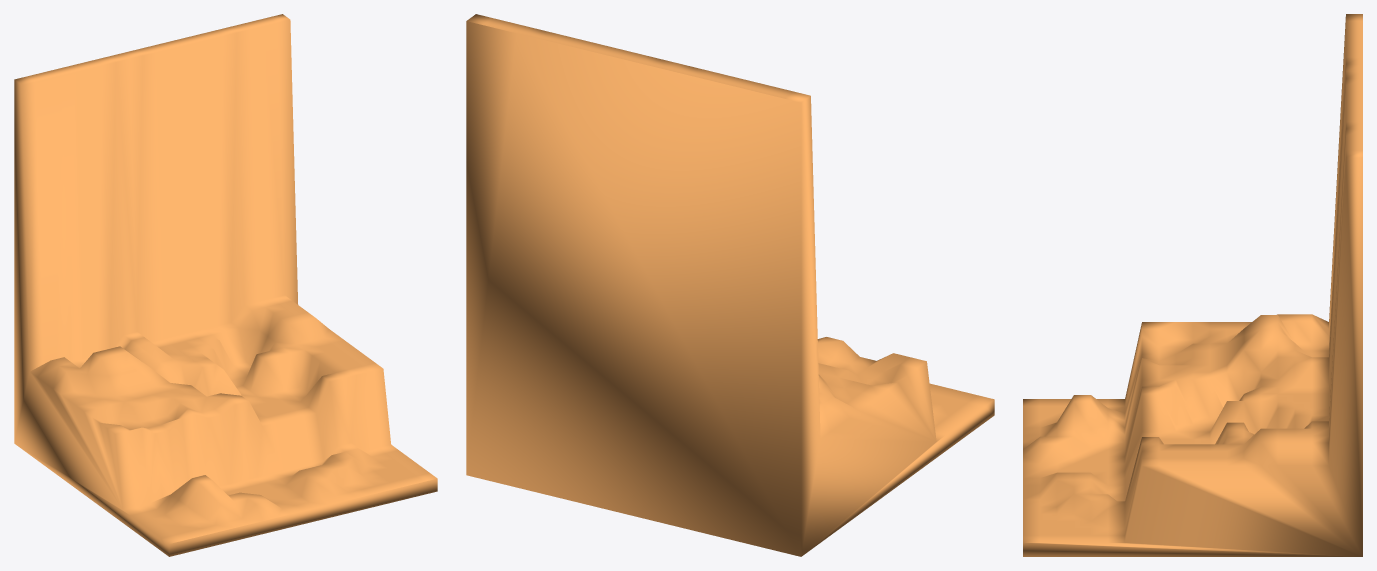
Rendered from right2.fbx.
3 renders of one model, left to right at view 1: azimuth 30°, elevation 25°; view 2: azimuth 150°, elevation 25°; view 3: azimuth 270°, elevation 25°, orthographic. The views are drawn at different scales.
Parts seen in each view (by area): view 1: Model; view 2: Model; view 3: Model.
Boxes of the visible parts, x1,y1,x2,y2 form: Model: [14, 14, 437, 556]; Model: [466, 14, 994, 556]; Model: [1023, 14, 1362, 556].
Size of the model in its own units: 1000 by 1296 by 1000.
